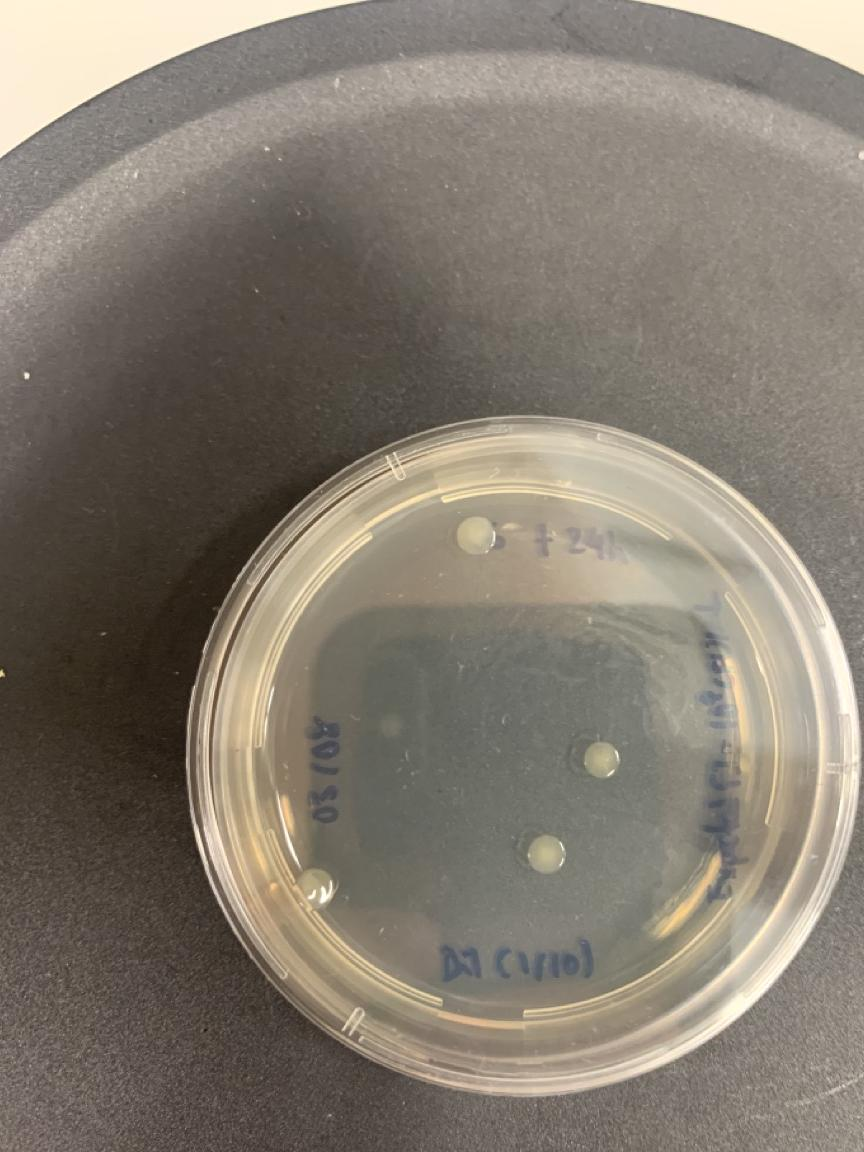colony: (293, 863, 336, 911), (527, 831, 569, 876), (454, 513, 496, 556), (581, 740, 620, 781)
